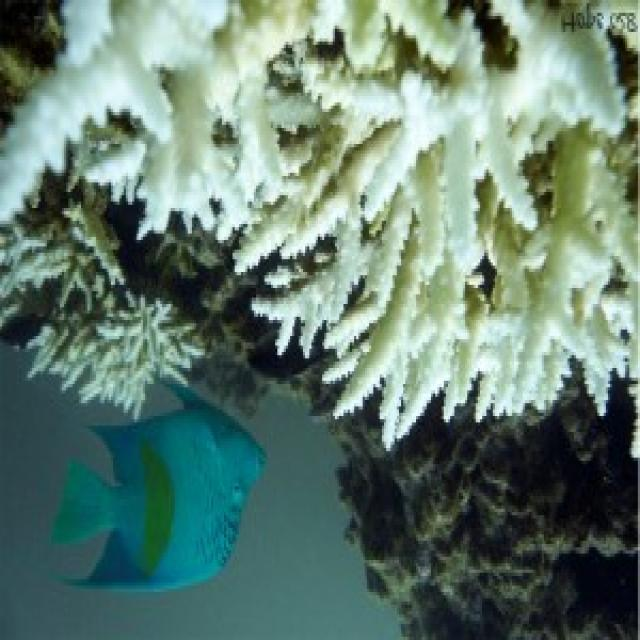Bleached: (340, 1, 640, 456), (1, 1, 315, 270), (1, 209, 199, 424)
Healthy: (334, 454, 640, 639)
